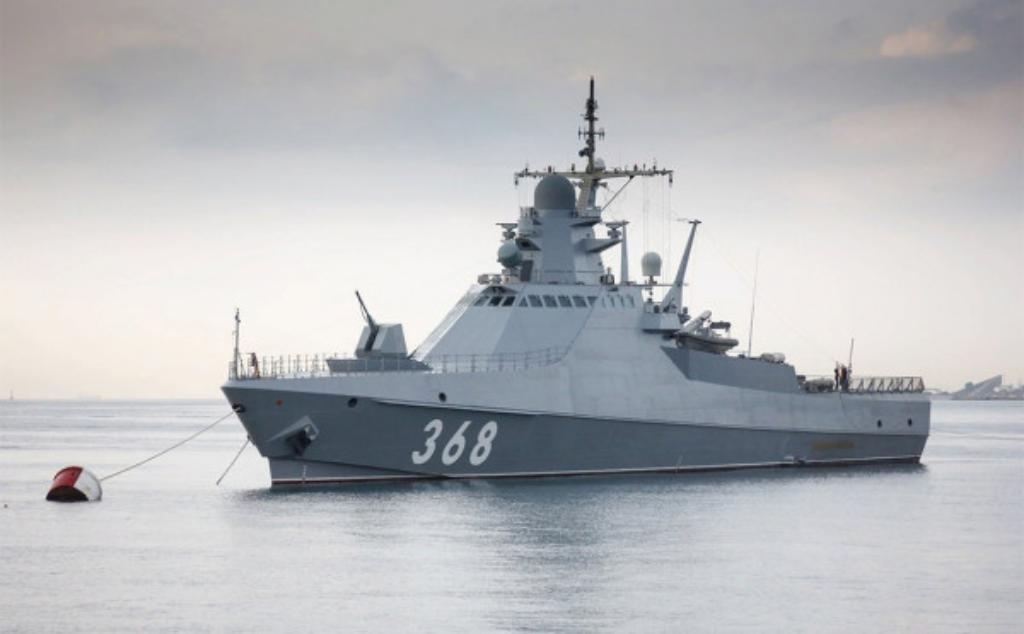Warship: (202, 119, 938, 491)
